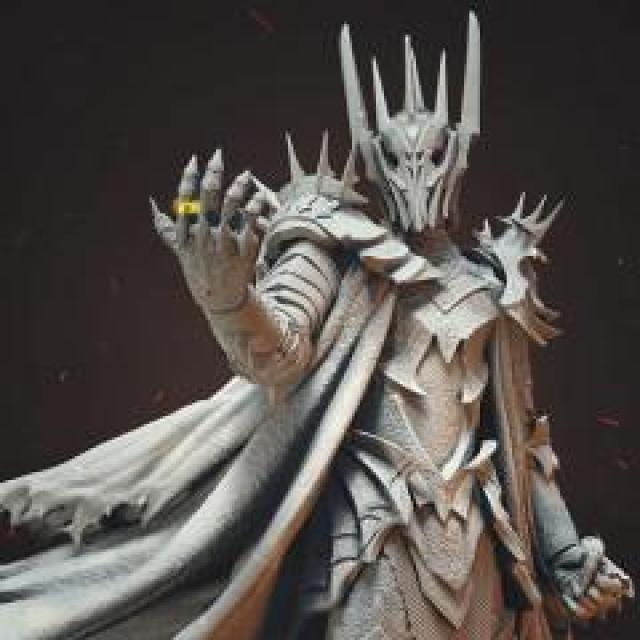Without deffect: (13, 13, 640, 640)
